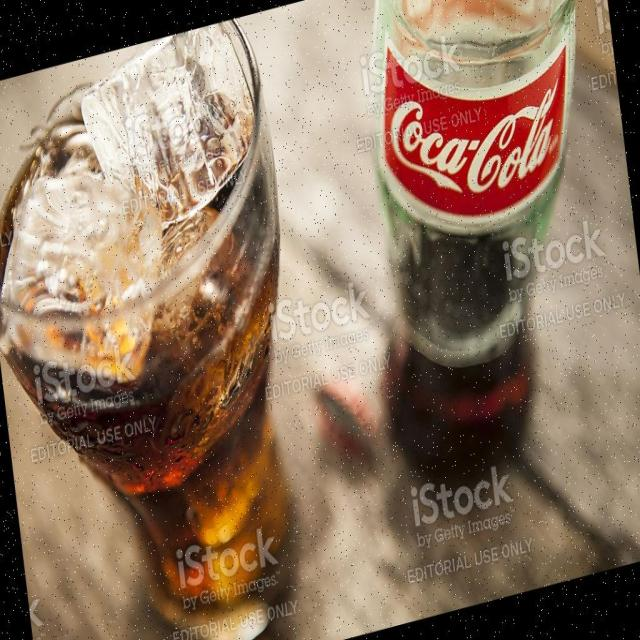coca-cola: (328, 0, 628, 502)
